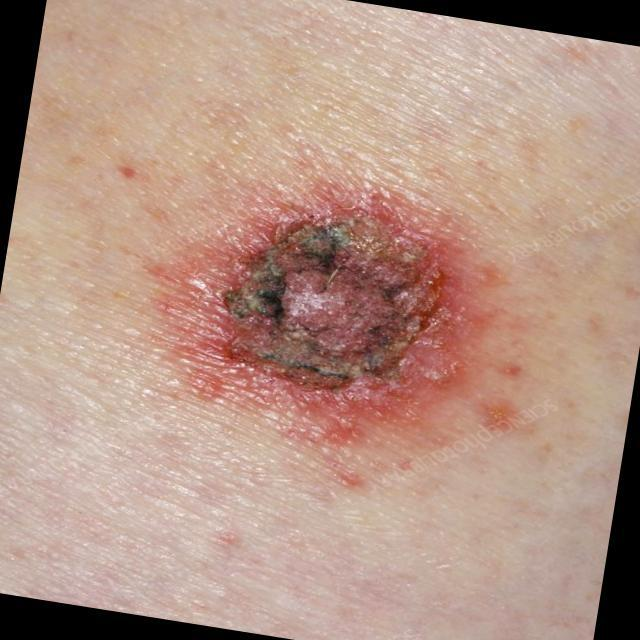Eczema: (174, 198, 486, 472)
